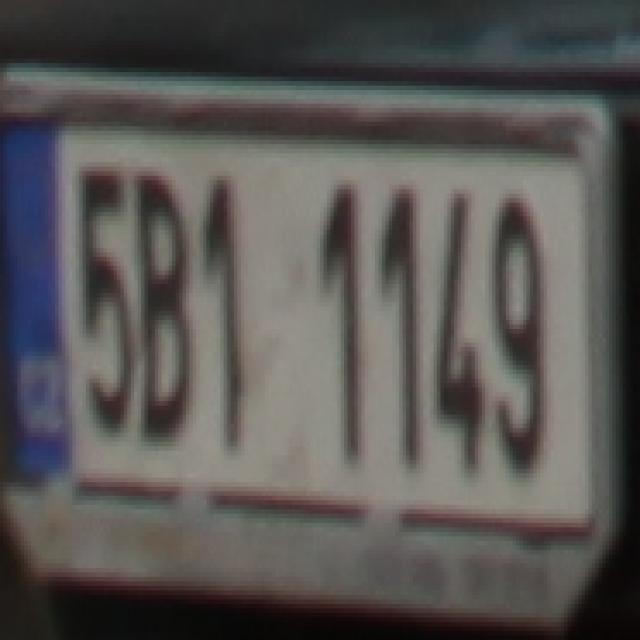1: (372, 185, 426, 482), (320, 180, 372, 464), (200, 180, 251, 451)
4: (430, 189, 492, 469)
5: (72, 158, 141, 419)
9: (492, 194, 547, 473)
B: (131, 166, 189, 442)
